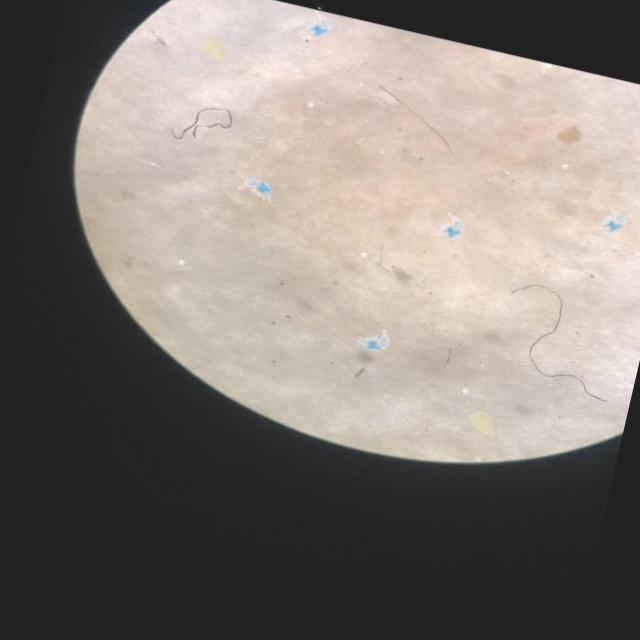fiber: (512, 284, 599, 399), (379, 85, 451, 152), (170, 107, 231, 140)
film: (236, 177, 272, 192), (440, 213, 463, 234), (358, 336, 388, 352), (308, 19, 324, 37), (603, 213, 617, 231)
fragment: (470, 412, 492, 433), (203, 40, 224, 58)
pellet: (360, 252, 367, 258), (307, 102, 313, 107), (461, 389, 467, 394), (177, 260, 183, 265), (561, 164, 566, 169)
